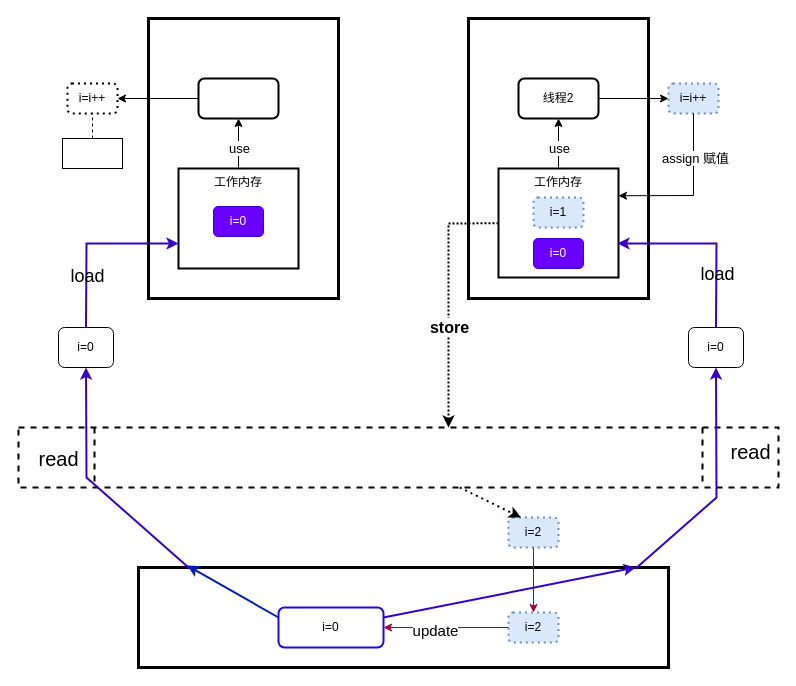
The diagram is 796 pixels wide and 686 high, and some of its shapes have lost their labels. The box of each missing label's shape, as (x1, y1, x2, y2) in pixels:
CPU-C1: (146, 16, 340, 300)
CPU-C2: (466, 16, 650, 300)
i=?: (62, 138, 122, 168)
主内存: (136, 566, 670, 668)
总线: (17, 426, 779, 488)
线程1: (197, 77, 279, 119)
